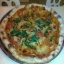basil: (21, 35, 41, 49), (34, 18, 52, 30), (9, 29, 31, 37)
pizza: (1, 5, 62, 61)
